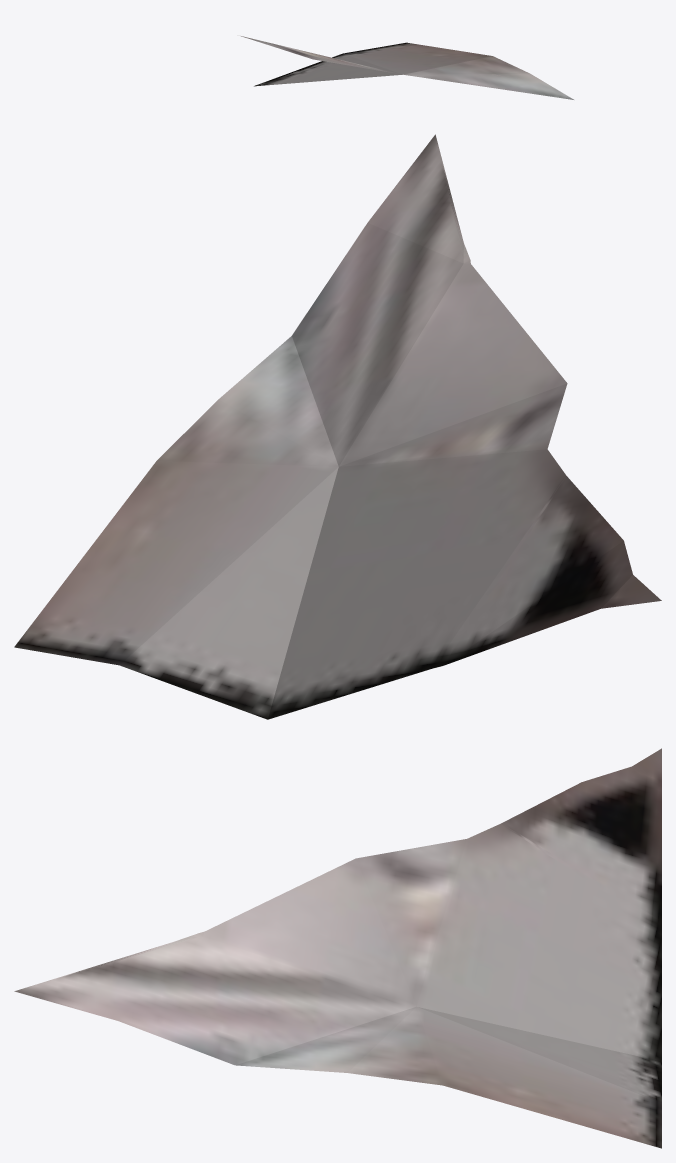
The picture shows the model from 3 angles, top to bottom: view 1: azimuth 30°, elevation 25°; view 2: azimuth 150°, elevation 25°; view 3: azimuth 270°, elevation 25°; orthographic projection. The views are drawn at different scales.
Bounding box in the file's own units: 1.12 × 0.3551 × 1.26.
1 material, 1 textured.
